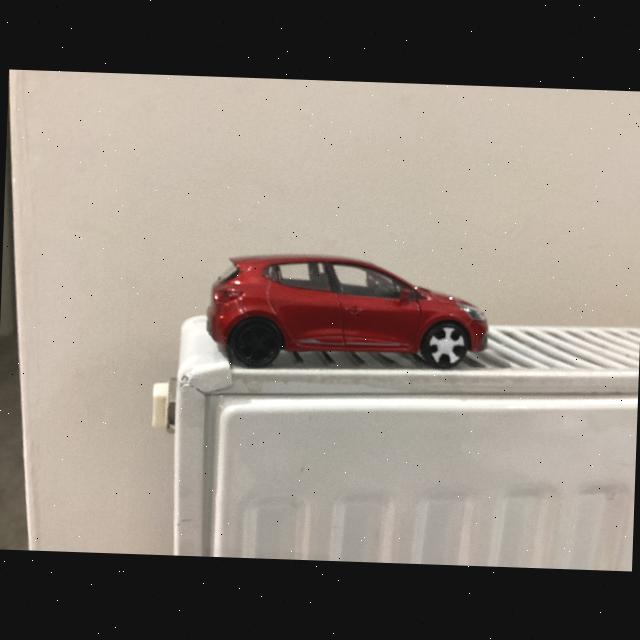Dogru_Jant: (238, 324, 276, 362)
Yanlis_Jant: (426, 326, 466, 366)
